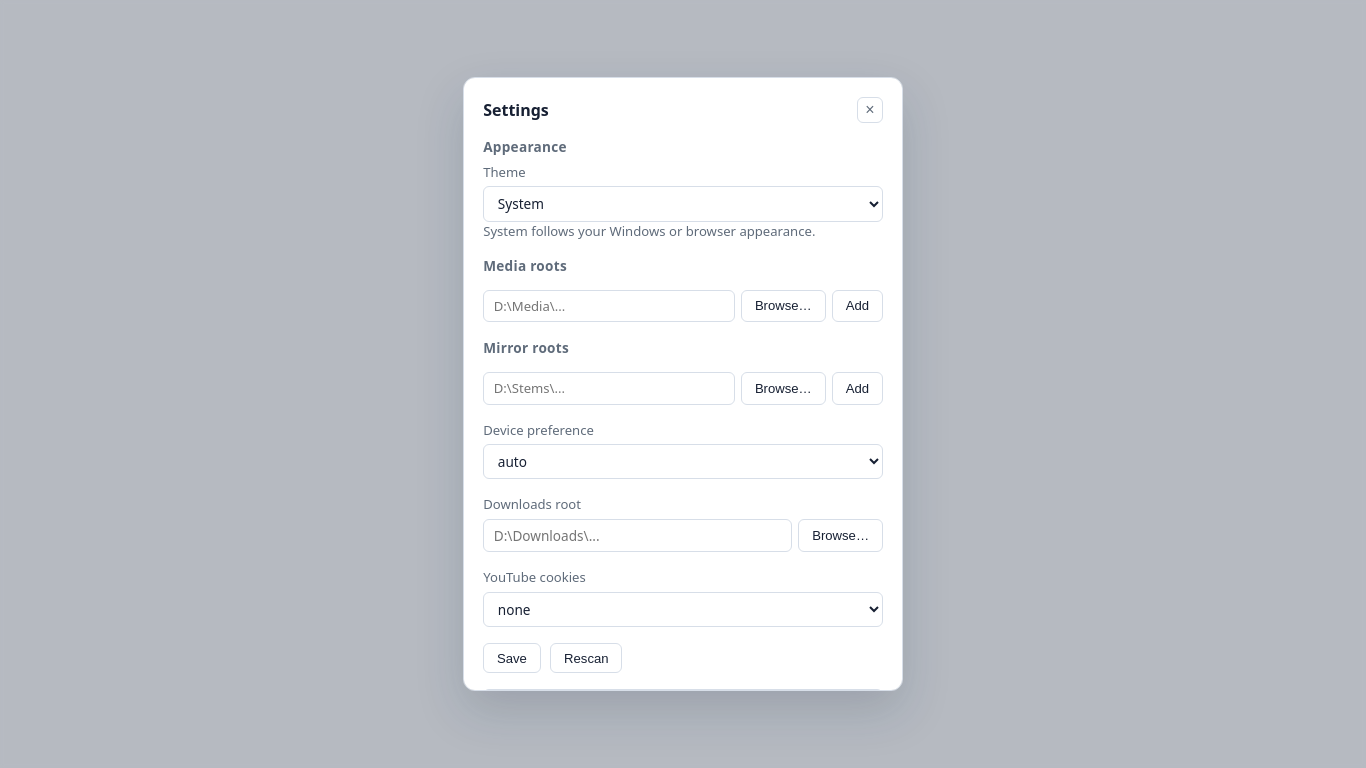
Test: SettingsDialog › uses the folder picker to populate path fields without adding or saving automatically
Step 1. Click the button with aria-label "Browse for media root" → {"x": 783, "y": 306}, box 741,290 -> 826,322
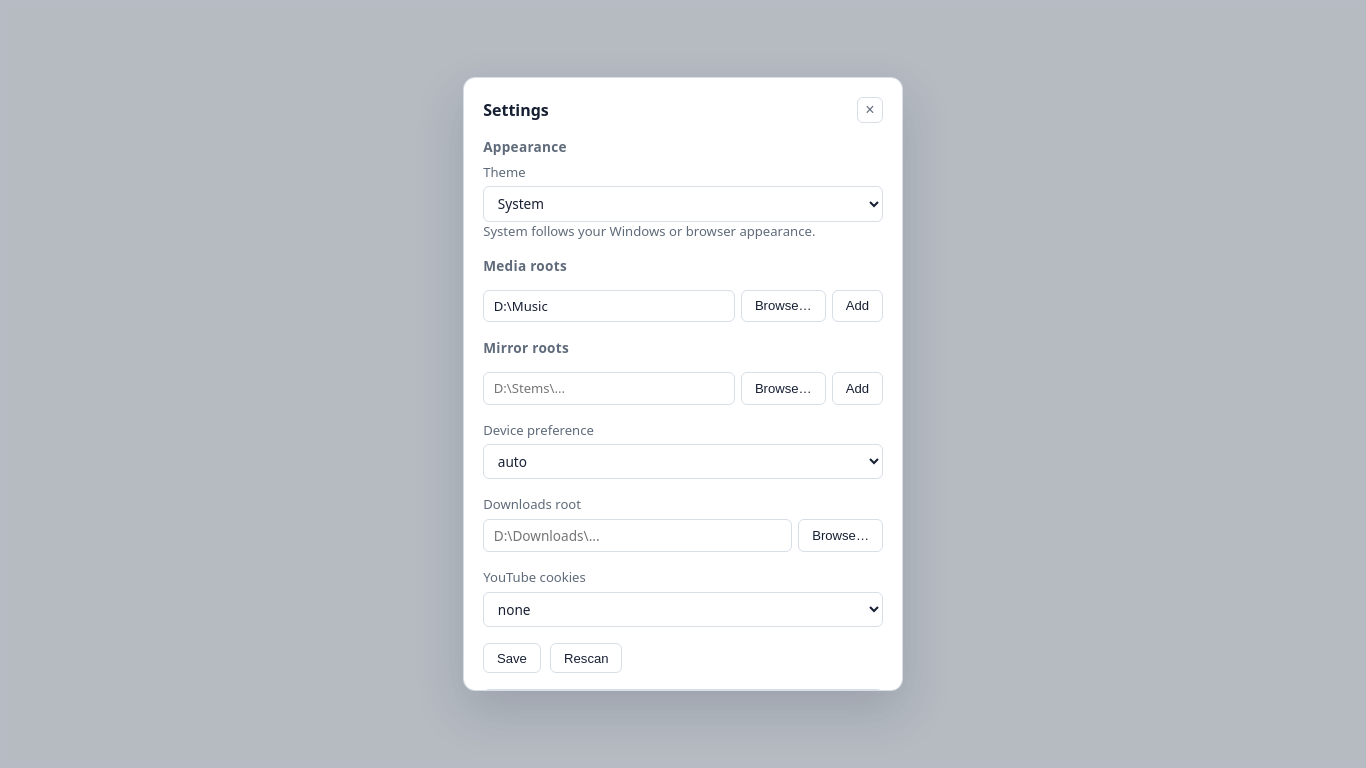
Expected: the field with placeholder "D:\\Media\\..." holds "D:\\Music", 483,290 -> 735,322
Step 2. Click the button with aria-label "Browse for downloads root" → {"x": 841, "y": 536}, box 798,519 -> 883,552
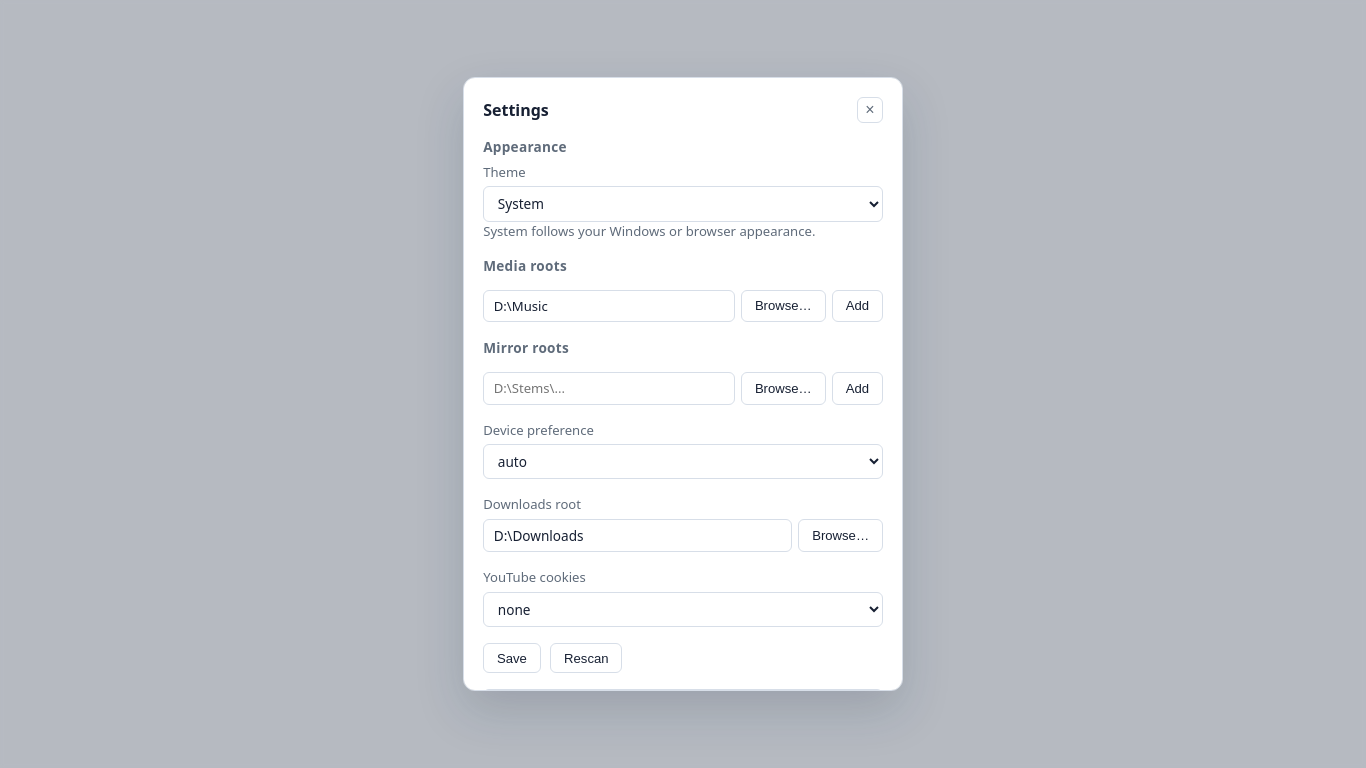
Expected: the field named "Downloads root" holds "D:\\Downloads", 483,519 -> 792,552
